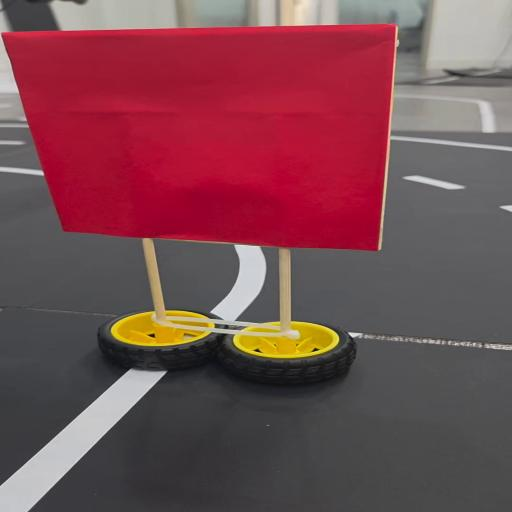Sign_A: (0, 20, 437, 408)
